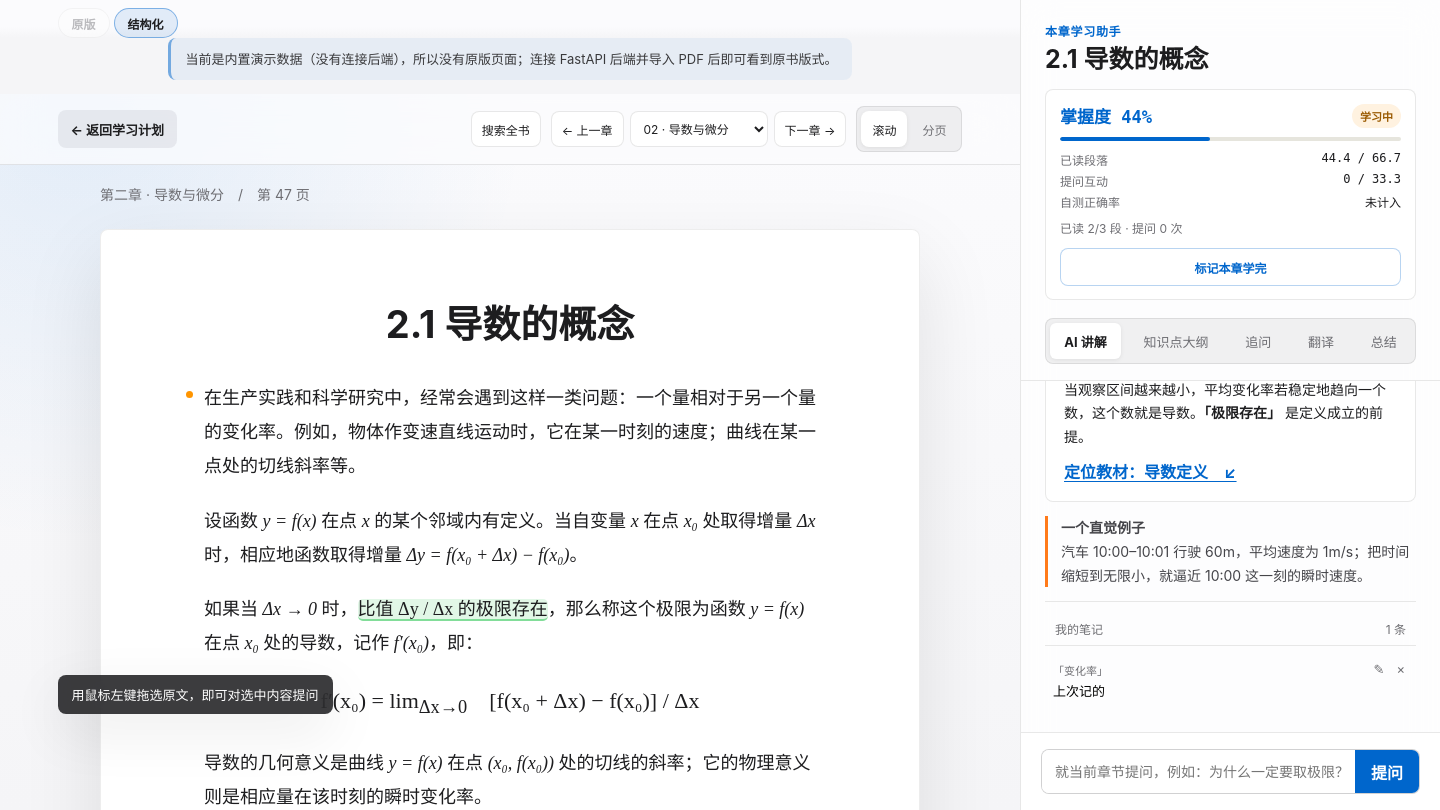
Test case: 笔记 › 点笔记会回到它对应的原文
(page scrolled)
Click the button with test id "note-old" at [1080, 671], box 1051,658 -> 1364,706
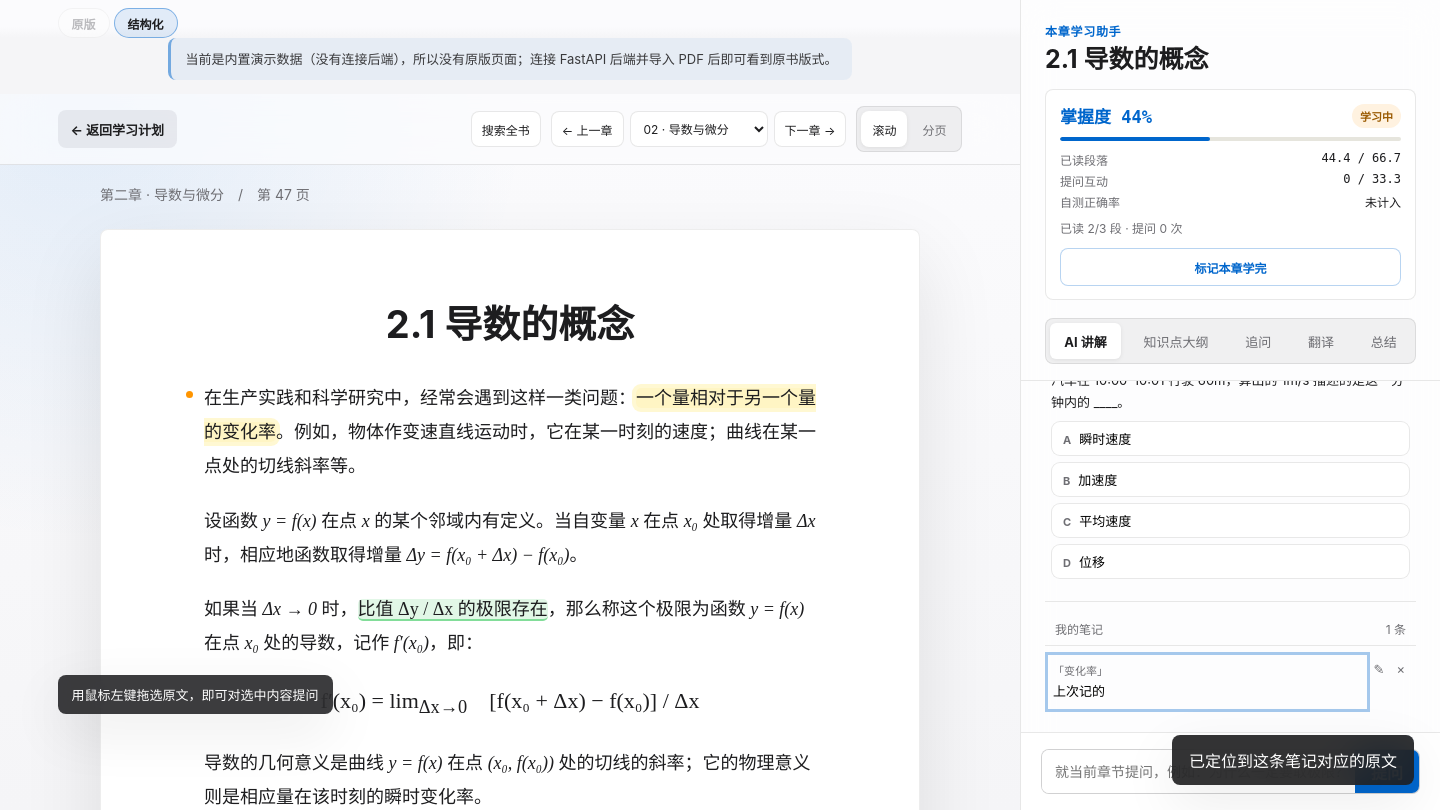
Check: the text "已定位到这条笔记对应的原文" is shown, box 1172,735 -> 1414,785
